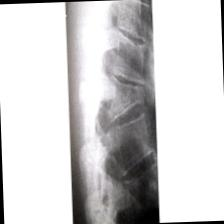compression-crush-fracture: (63, 0, 161, 224)
